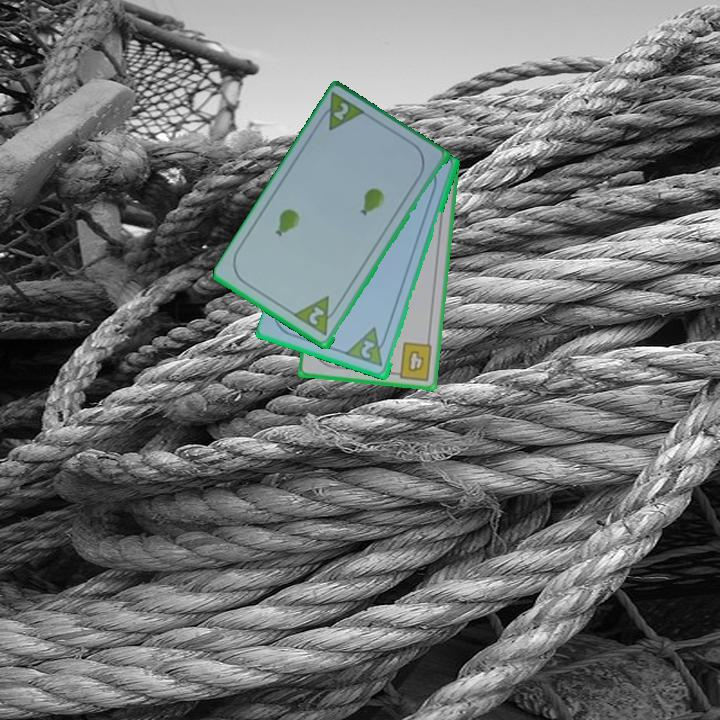2p: (291, 293, 343, 340), (330, 99, 352, 124), (357, 337, 378, 362)
4b: (389, 339, 435, 383)
